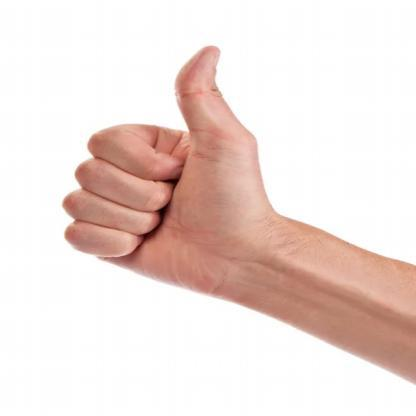thumb_up: (60, 41, 269, 297)
